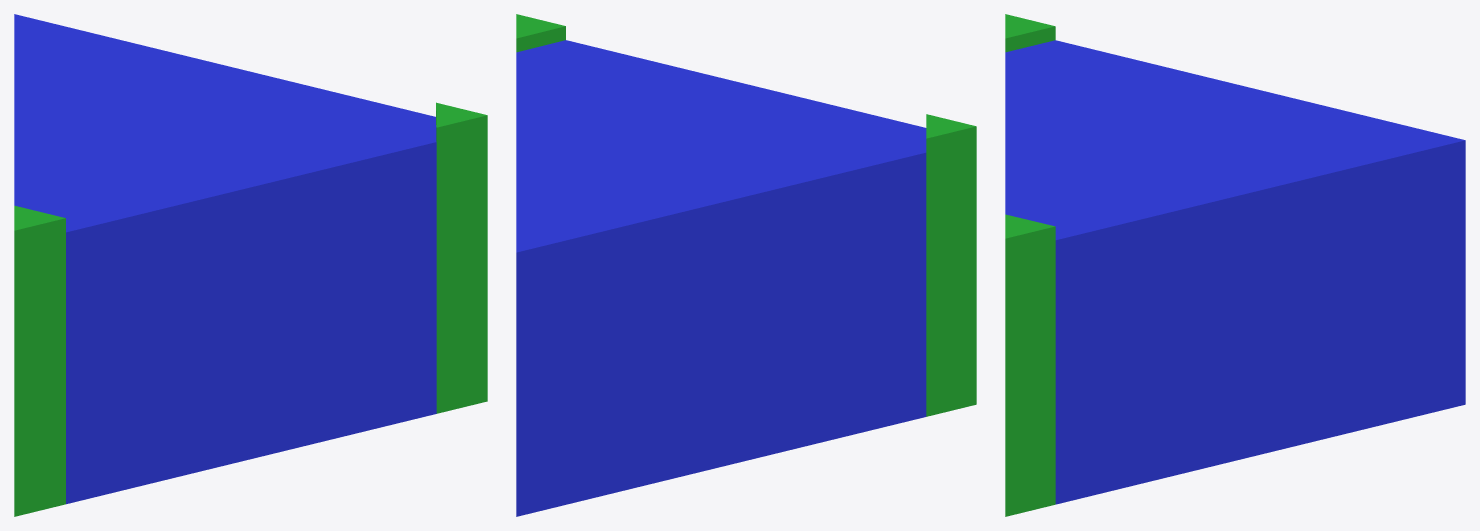
The model's file is river-delta_face.glb.
3 views of the same model, side by side, from view 1: azimuth 30°, elevation 25°; view 2: azimuth 150°, elevation 25°; view 3: azimuth 270°, elevation 25° (orthographic). The views are drawn at different scales.
Visible parts, largest first — view 1: river-delta_face; view 2: river-delta_face; view 3: river-delta_face.
Boxes of the visible parts, left/top/right/bottom form: river-delta_face: left=14, top=14, right=487, bottom=516; river-delta_face: left=516, top=14, right=976, bottom=516; river-delta_face: left=1005, top=14, right=1465, bottom=516.
Size of the model in its own units: 0.866 by 0.5 by 0.75.
